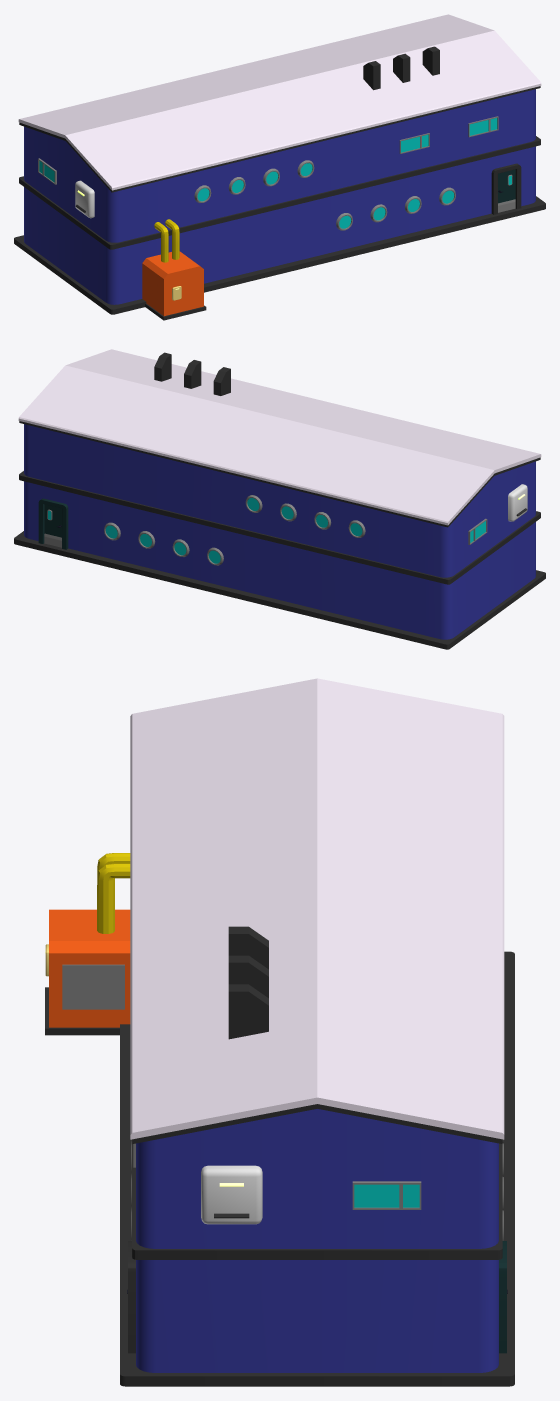
Rendered from factoryHouse.fbx.
The picture shows the model from 3 angles, top to bottom: view 1: azimuth 30°, elevation 25°; view 2: azimuth 150°, elevation 25°; view 3: azimuth 270°, elevation 25°; orthographic projection. The views are drawn at different scales.
Visible parts, largest first — view 1: Cube.179; view 2: Cube.179; view 3: Cube.179.
Part boxes in pixels (x1,y1,x2,y2): Cube.179: (14, 14, 545, 320); Cube.179: (14, 349, 545, 649); Cube.179: (45, 678, 514, 1386).
Size of the model in its own units: 2203 by 754 by 1013.
